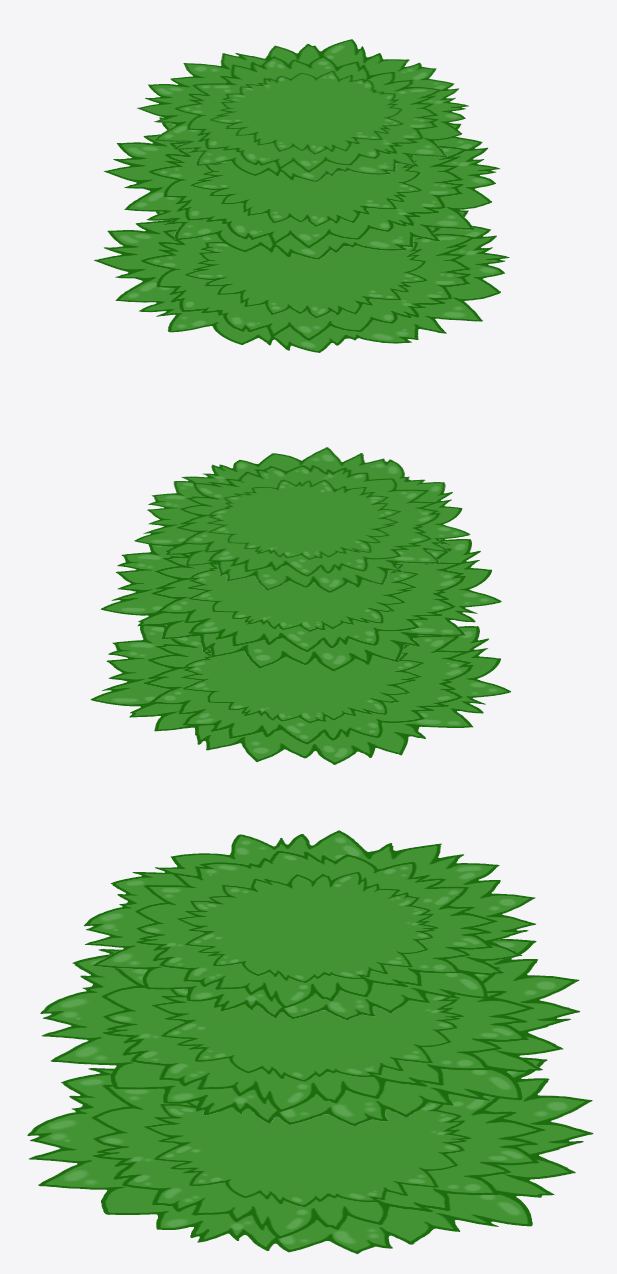
File: bush.FBX
3 views of the same model, one above another, from view 1: azimuth 30°, elevation 25°; view 2: azimuth 150°, elevation 25°; view 3: azimuth 270°, elevation 25° (orthographic). The views are drawn at different scales.
Visible parts, largest first — view 1: bush, leaves003, leaves002; view 2: bush, leaves003, leaves002; view 3: bush, leaves003, leaves002.
Boxes of the visible parts, x1,y1,x2,y2 form: bush: [93, 210, 509, 352]; leaves003: [137, 39, 468, 182]; leaves002: [103, 117, 500, 259]; bush: [90, 624, 510, 764]; leaves003: [134, 447, 470, 592]; leaves002: [101, 539, 501, 671]; bush: [27, 1057, 593, 1254]; leaves003: [83, 830, 536, 1020]; leaves002: [40, 939, 580, 1126].
Size of the model in its own units: 64.17 by 64.17 by 25.21.
Materials: 1 (1 with a texture image).
